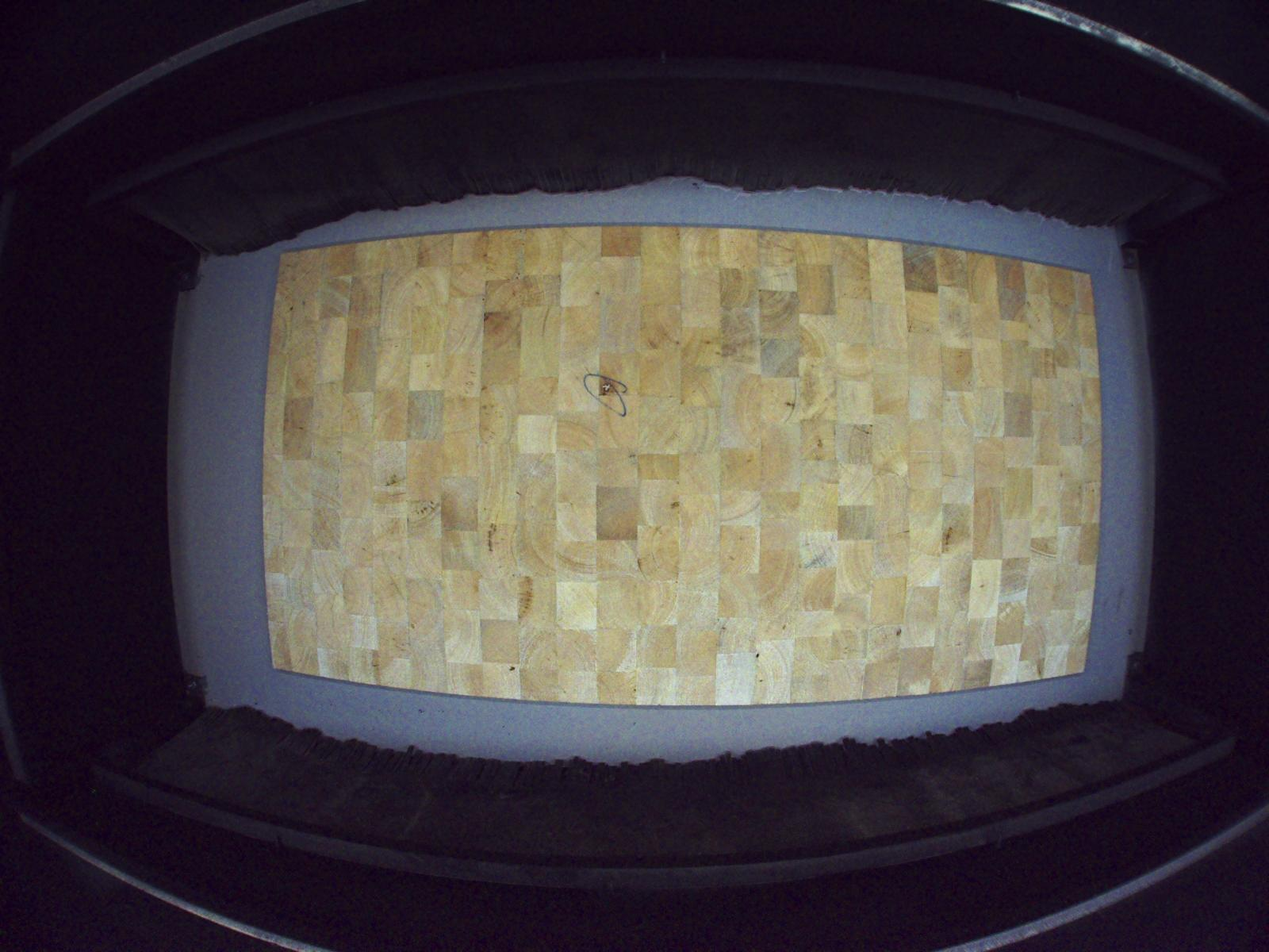nudillo: (598, 380, 616, 395)
sheck_ecuatoriano: (783, 380, 798, 424)
